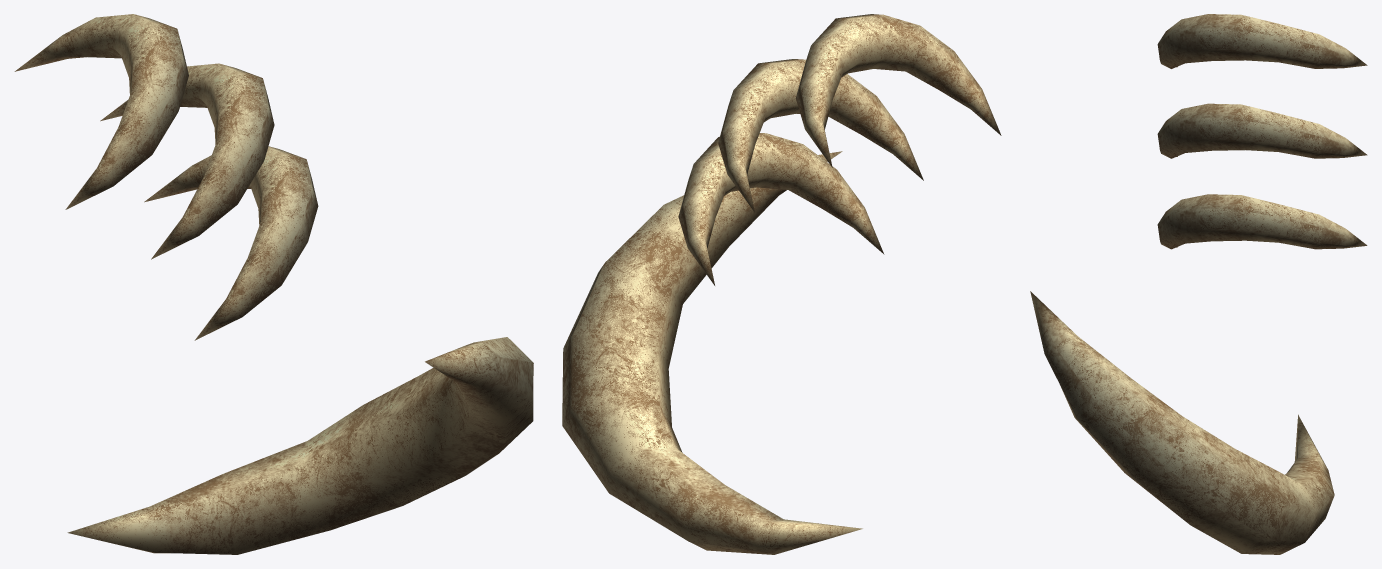
File: sm_yun_accessories_07.gltf
The picture shows the model from 3 angles, left to right: view 1: azimuth 30°, elevation 25°; view 2: azimuth 150°, elevation 25°; view 3: azimuth 270°, elevation 25°; orthographic projection. The views are drawn at different scales.
Parts seen in each view (by area): view 1: sm_yun_accessories_07; view 2: sm_yun_accessories_07; view 3: sm_yun_accessories_07.
Boxes of the visible parts, x1,y1,x2,y2 form: sm_yun_accessories_07: (14,14,533,554); sm_yun_accessories_07: (562,14,1001,554); sm_yun_accessories_07: (1030,14,1367,554).
Bounding box in the file's own units: 6.27 × 7.68 × 5.
1 material, 1 textured.
